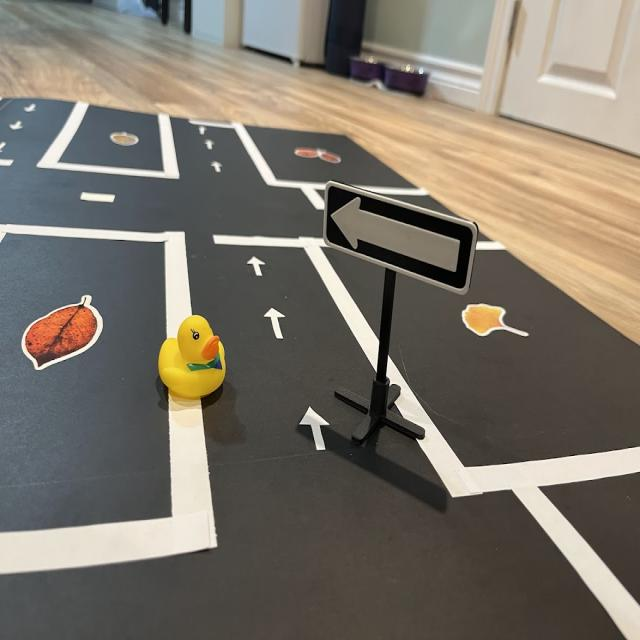duck_regular: (159, 317, 228, 402)
road_oneway: (297, 400, 331, 457), (263, 305, 292, 345), (246, 255, 270, 285), (210, 152, 225, 183), (196, 121, 210, 137), (203, 140, 215, 154)
sign_oneway_left: (325, 188, 479, 296)
